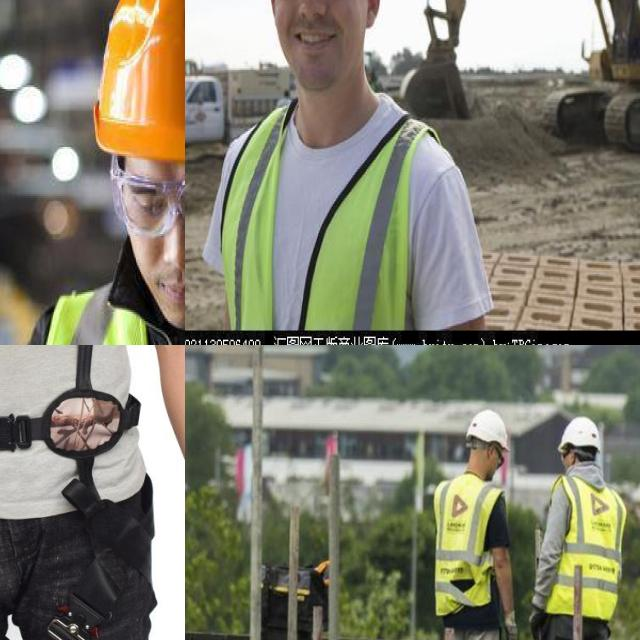Harness: (0, 345, 154, 640)
No_Ear-Protection: (361, 0, 385, 35)
face_nomask: (109, 154, 185, 321), (271, 0, 375, 100)
glasses: (107, 155, 185, 238)
head_helmet: (85, 0, 185, 147), (557, 414, 605, 455), (467, 409, 512, 451)
person: (202, 0, 477, 335), (0, 0, 185, 345), (534, 416, 626, 640), (436, 408, 518, 640)
vest: (206, 84, 423, 329), (550, 472, 624, 618), (432, 472, 506, 613)
